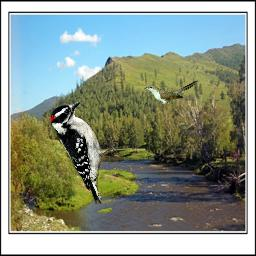Cuckoo: (144, 80, 198, 104)
Woodpecker: (49, 101, 123, 204)
